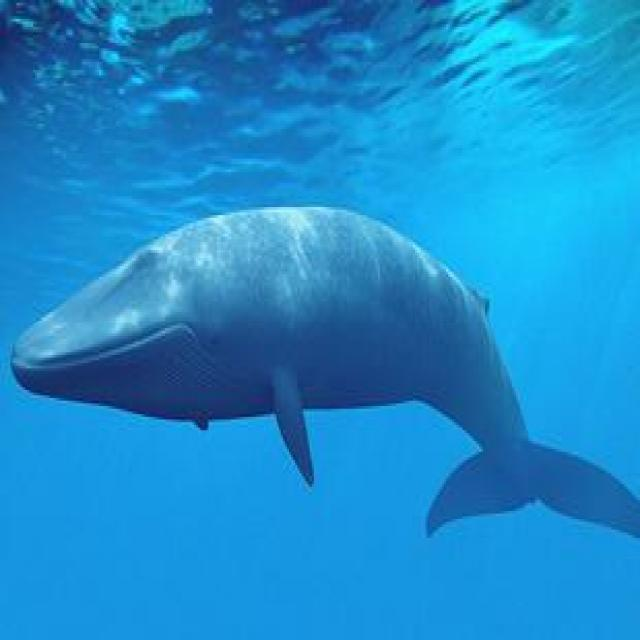blue_whale: (4, 194, 640, 610)
